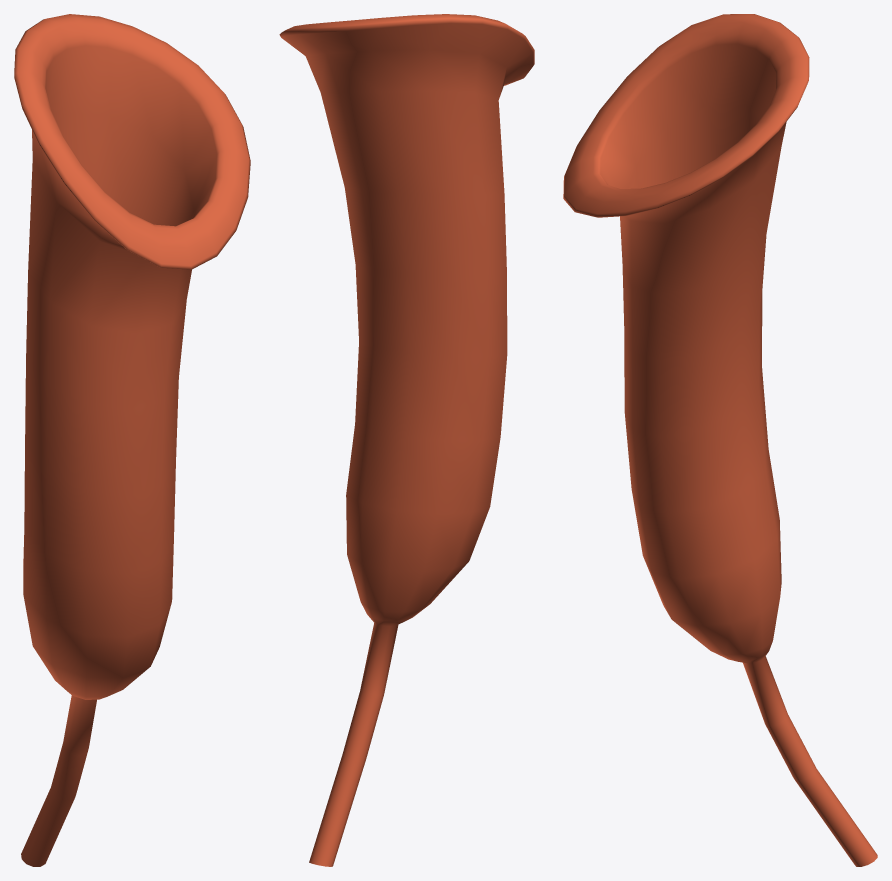
File: MESH_Beach_Props_Plants_01.fbx
3 renders of one model, left to right at view 1: azimuth 30°, elevation 25°; view 2: azimuth 150°, elevation 25°; view 3: azimuth 270°, elevation 25°, orthographic. The views are drawn at different scales.
Visible parts, largest first — view 1: MESH_Beach_Props_Plants_01; view 2: MESH_Beach_Props_Plants_01; view 3: MESH_Beach_Props_Plants_01.
Boxes of the visible parts, bbox=[...] form: MESH_Beach_Props_Plants_01: bbox=[14, 14, 250, 866]; MESH_Beach_Props_Plants_01: bbox=[279, 14, 534, 866]; MESH_Beach_Props_Plants_01: bbox=[563, 14, 877, 866].
Size of the model in its own units: 1.94 by 7.36 by 2.56.
